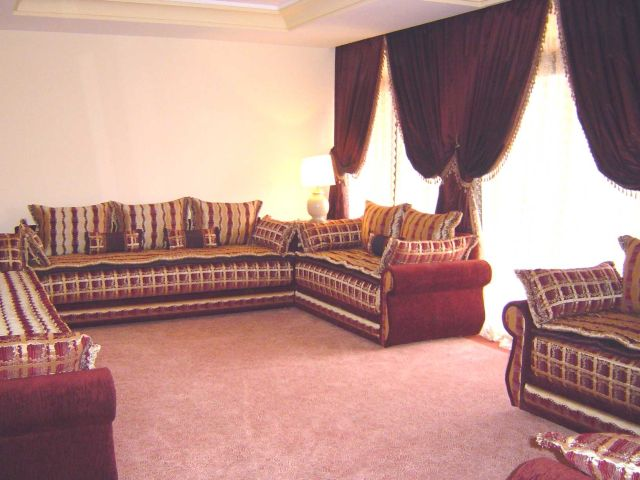chairs: (1, 197, 298, 327), (296, 196, 492, 347), (502, 230, 640, 437)
